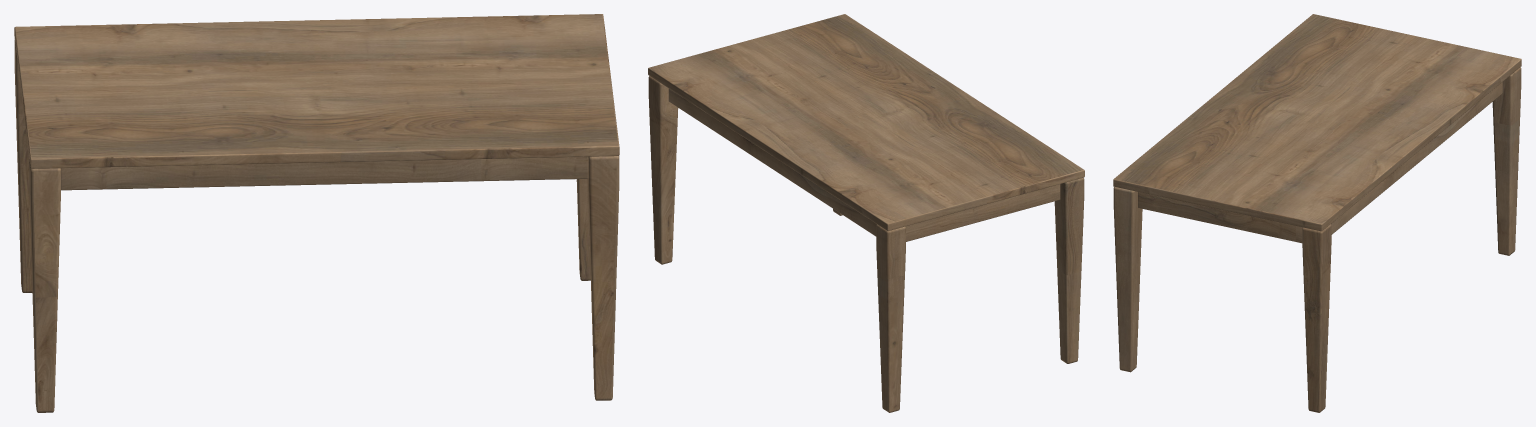
File: table.glb
3 renders of one model, left to right at view 1: azimuth 30°, elevation 25°; view 2: azimuth 150°, elevation 25°; view 3: azimuth 270°, elevation 25°, orthographic. The views are drawn at different scales.
Parts seen in each view (by area): view 1: table_generator_n3d; view 2: table_generator_n3d; view 3: table_generator_n3d.
Boxes of the visible parts, <box> form: table_generator_n3d: <box>14,14,619,412</box>; table_generator_n3d: <box>648,14,1084,412</box>; table_generator_n3d: <box>1113,14,1521,412</box>.
Bounding box in the file's own units: 1.29 × 0.547 × 1.05.
Materials: 1 (1 with a texture image).
